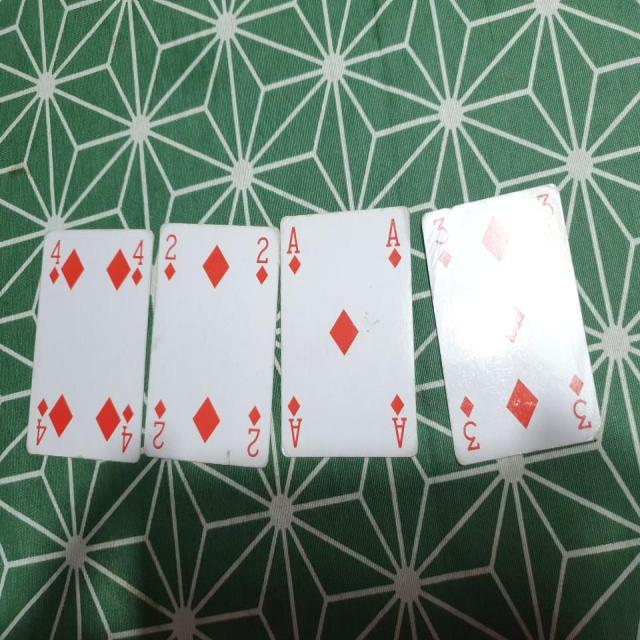2 Diamonds: (147, 210, 282, 477)
3 Diamonds: (420, 178, 602, 465)
4 Diamonds: (26, 227, 156, 470)
A Diamonds: (272, 194, 425, 460)
